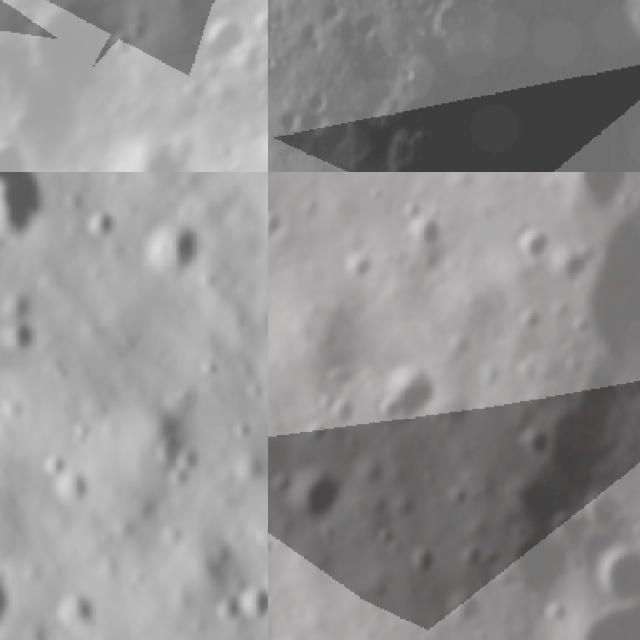crater: (328, 0, 640, 172), (21, 0, 120, 99), (127, 407, 221, 507), (127, 200, 218, 293), (364, 351, 450, 434), (0, 172, 69, 268), (281, 454, 356, 530), (550, 172, 638, 222), (37, 456, 105, 518), (124, 125, 209, 172), (42, 581, 108, 640), (587, 544, 640, 611), (573, 592, 640, 640), (72, 198, 130, 253), (499, 219, 556, 268), (0, 308, 49, 362), (577, 484, 634, 530), (0, 276, 47, 331), (226, 572, 268, 632), (199, 11, 247, 62), (397, 206, 446, 255), (398, 540, 442, 586), (510, 418, 558, 460), (552, 243, 600, 284), (31, 444, 74, 489), (335, 244, 376, 287), (321, 352, 364, 389), (507, 300, 548, 338), (106, 28, 140, 70), (0, 136, 37, 172), (560, 310, 597, 346), (128, 13, 160, 46), (312, 388, 342, 417), (0, 439, 16, 493), (302, 83, 332, 111), (248, 4, 268, 44), (268, 204, 286, 247), (303, 419, 329, 446), (198, 629, 246, 640), (257, 127, 268, 172)
